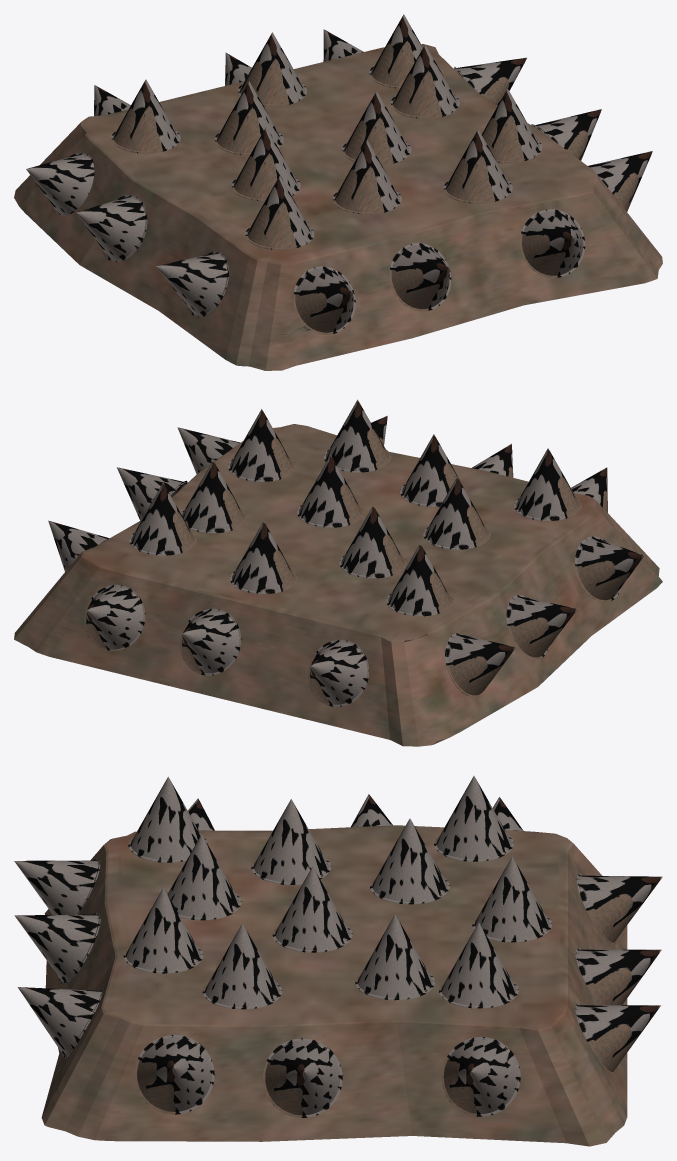
The model's file is Moving_Spikes.fbx.
3 renders of one model, top to bottom at view 1: azimuth 30°, elevation 25°; view 2: azimuth 150°, elevation 25°; view 3: azimuth 270°, elevation 25°, orthographic. The views are drawn at different scales.
Visible parts, largest first — view 1: AA_Block, Side_Spikes, Side_Holes; view 2: AA_Block, Side_Spikes, Side_Holes; view 3: AA_Block, Side_Spikes, Side_Holes.
Boxes of the visible parts, x1,y1,x2,y2 form: AA_Block: [14, 44, 662, 370]; Side_Spikes: [26, 14, 652, 332]; Side_Holes: [51, 65, 616, 334]; AA_Block: [14, 424, 662, 746]; Side_Spikes: [48, 399, 644, 704]; Side_Holes: [84, 450, 621, 706]; AA_Block: [41, 825, 627, 1146]; Side_Spikes: [14, 776, 662, 1115]; Side_Holes: [59, 835, 616, 1117].
Size of the model in its own units: 227 by 64.08 by 222.
Materials: 1 (1 with a texture image).
